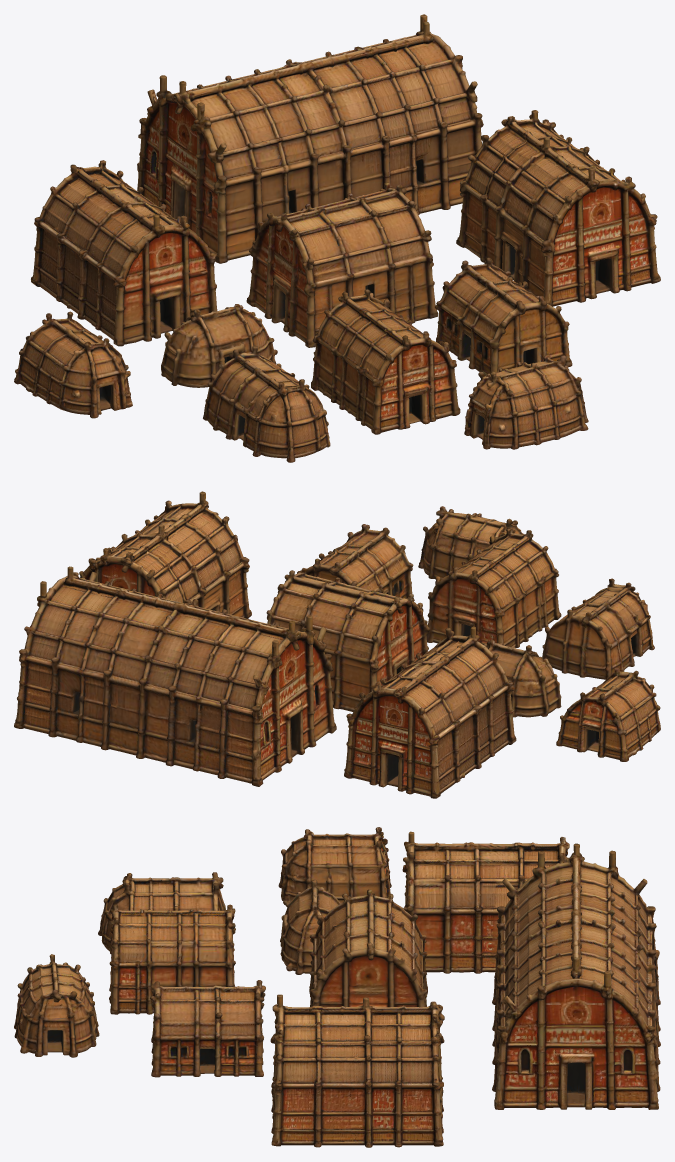
File: Medieval Village (North American Native).fbx
3 renders of one model, top to bottom at view 1: azimuth 30°, elevation 25°; view 2: azimuth 150°, elevation 25°; view 3: azimuth 270°, elevation 25°, orthographic. The views are drawn at different scales.
Parts seen in each view (by area): view 1: tripo_node_296633a6; view 2: tripo_node_296633a6; view 3: tripo_node_296633a6.
Boxes of the visible parts, x1,y1,x2,y2 form: tripo_node_296633a6: (14,14,660,462); tripo_node_296633a6: (14,491,660,798); tripo_node_296633a6: (14,827,660,1147).
Bounding box in the file's own units: 1 × 0.2647 × 0.996.
